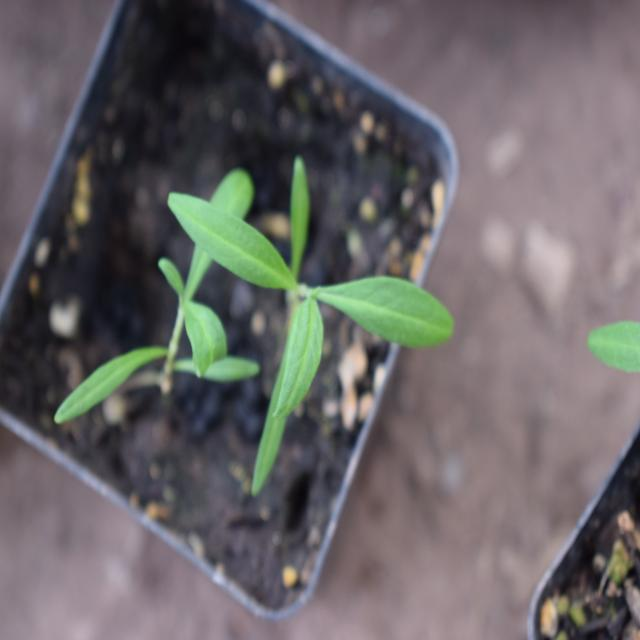white_smart_weed: (172, 150, 474, 480)
